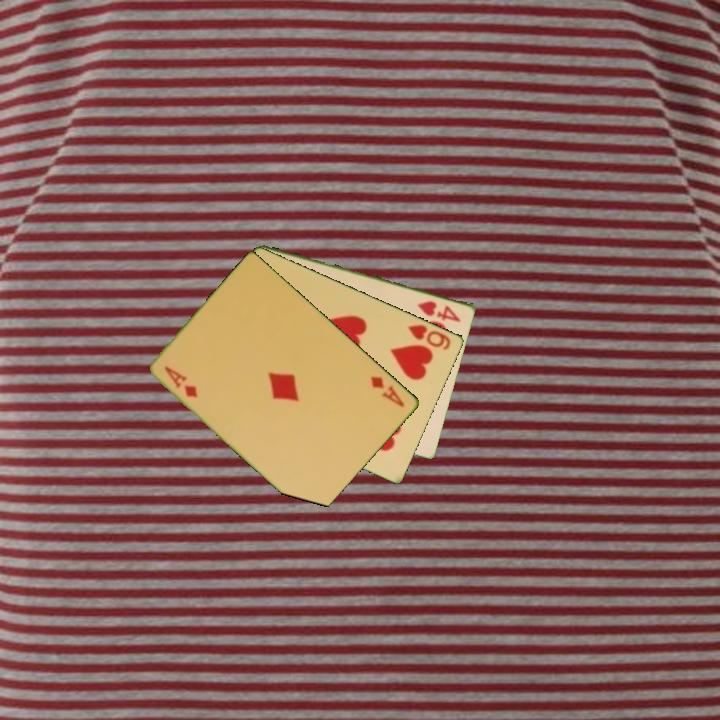4h: (414, 297, 464, 325)
6h: (404, 320, 454, 353)
Ad: (367, 372, 408, 410), (161, 362, 201, 400)
